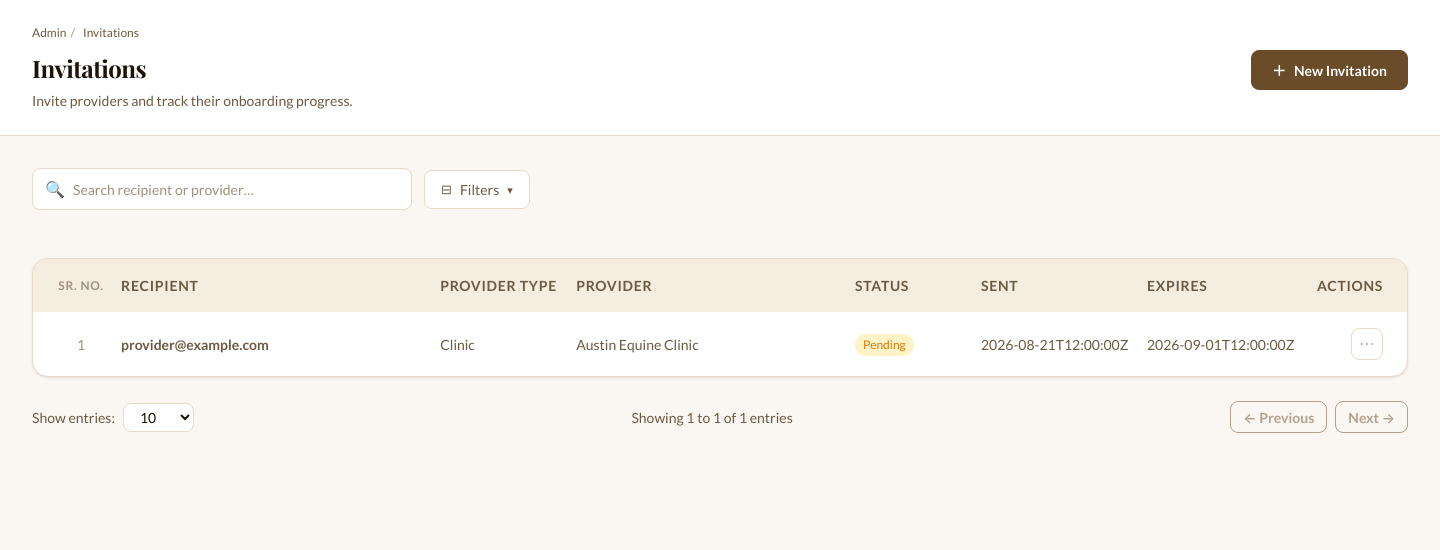
Test: InvitationsPage › keeps the resend action disabled with its semantic icon while the request is in progress
Expected: the text "provider@example.com" is shown, [121,336,269,352]
Click the button named "Actions for provider@example.com" at (1367, 344), box [1351,328,1383,360]
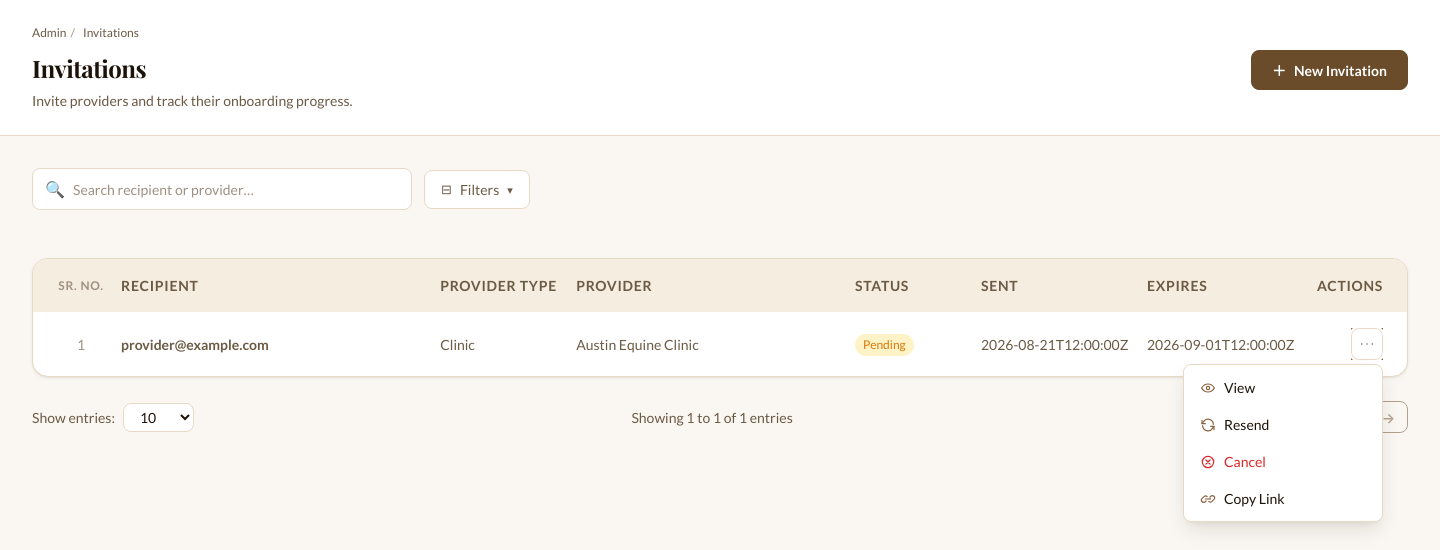
Click the menu item "Resend" at (1283, 424), box [1188,406,1378,443]
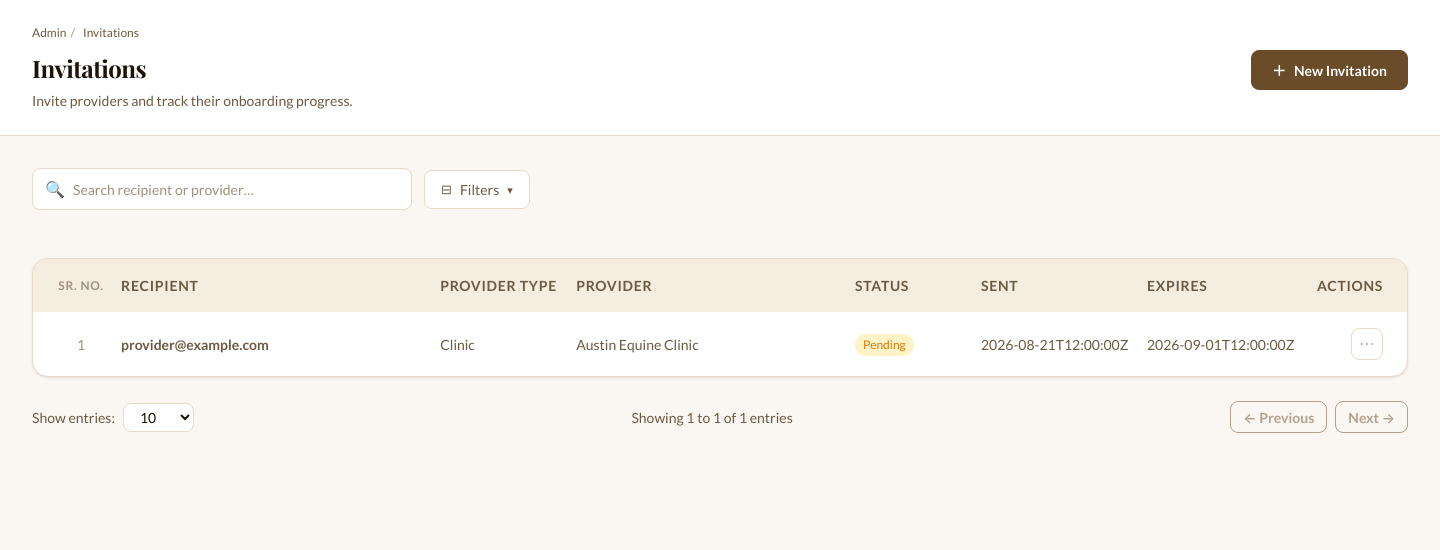
Click the button named "Actions for provider@example.com" at (1367, 344), box [1351,328,1383,360]
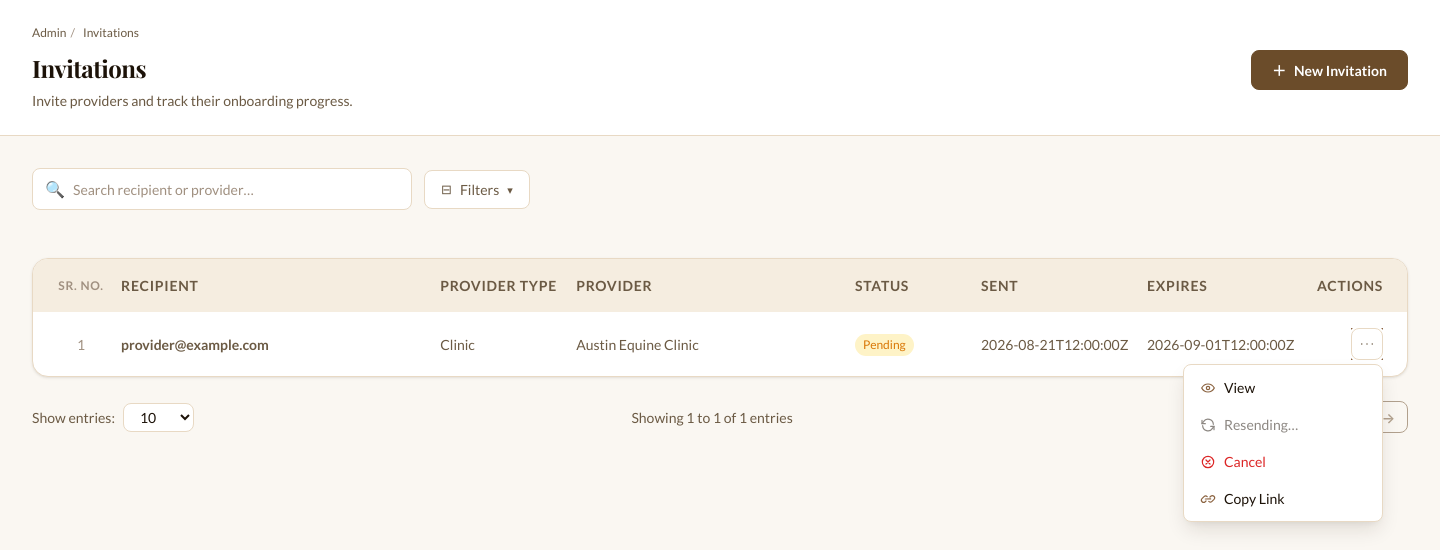
Expected: the menu item "Resending…" is disabled, [1188,406,1378,443]
Expected: the 5th icon is shown, [1200,416,1216,432]
